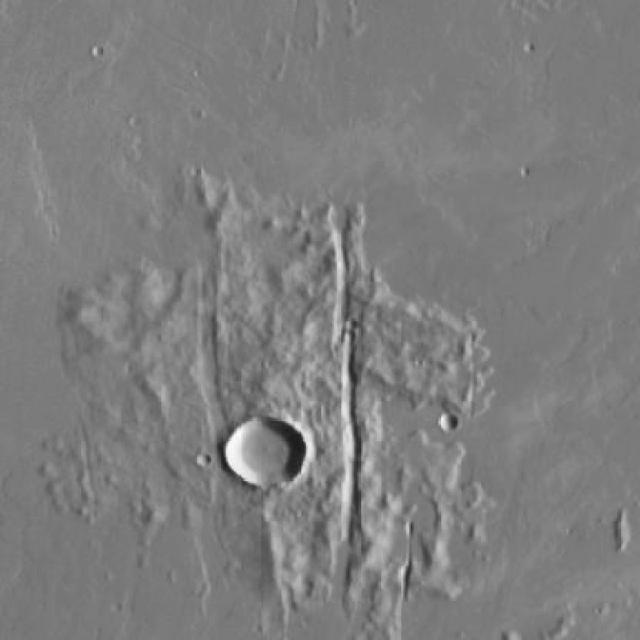crater: (226, 419, 306, 492), (438, 412, 459, 431)
